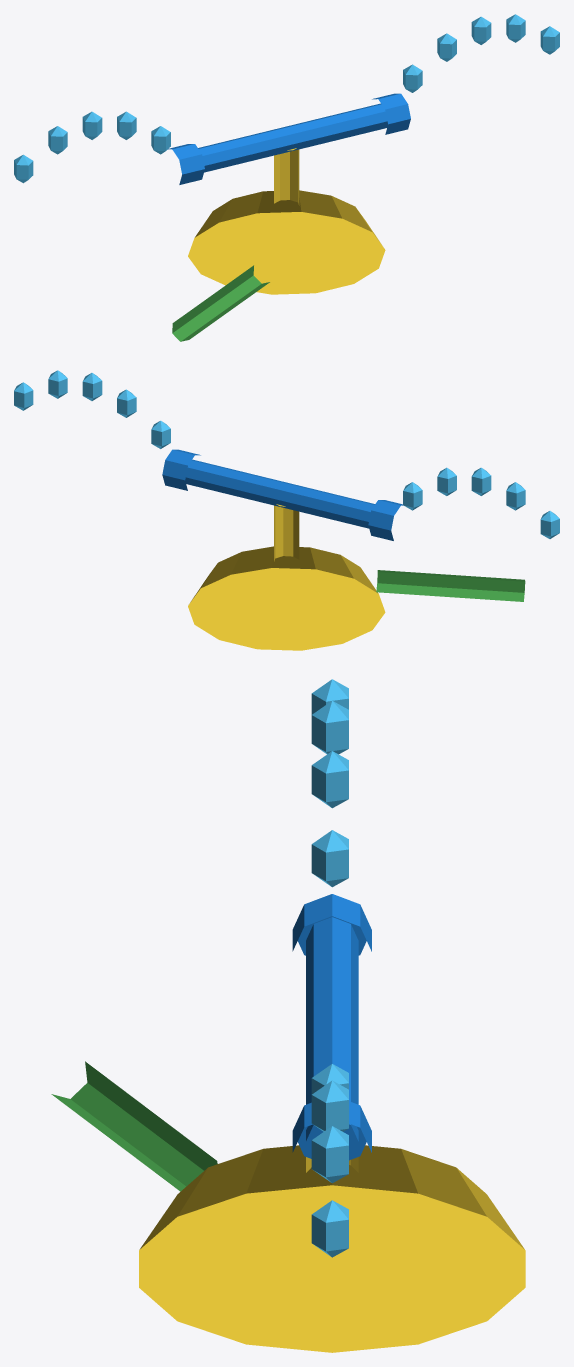
The model's file is vattenspridare.glb.
The picture shows the model from 3 angles, top to bottom: view 1: azimuth 30°, elevation 25°; view 2: azimuth 150°, elevation 25°; view 3: azimuth 270°, elevation 25°; orthographic projection. The views are drawn at different scales.
Visible parts, largest first — view 1: vattenspridare; view 2: vattenspridare; view 3: vattenspridare.
Boxes of the visible parts, box(x1,y1,x2,y2) form: vattenspridare: box(14, 14, 559, 341); vattenspridare: box(14, 370, 559, 650); vattenspridare: box(51, 679, 525, 1352).
Bounding box in the file's own units: 0.9497 × 0.316 × 0.361.
